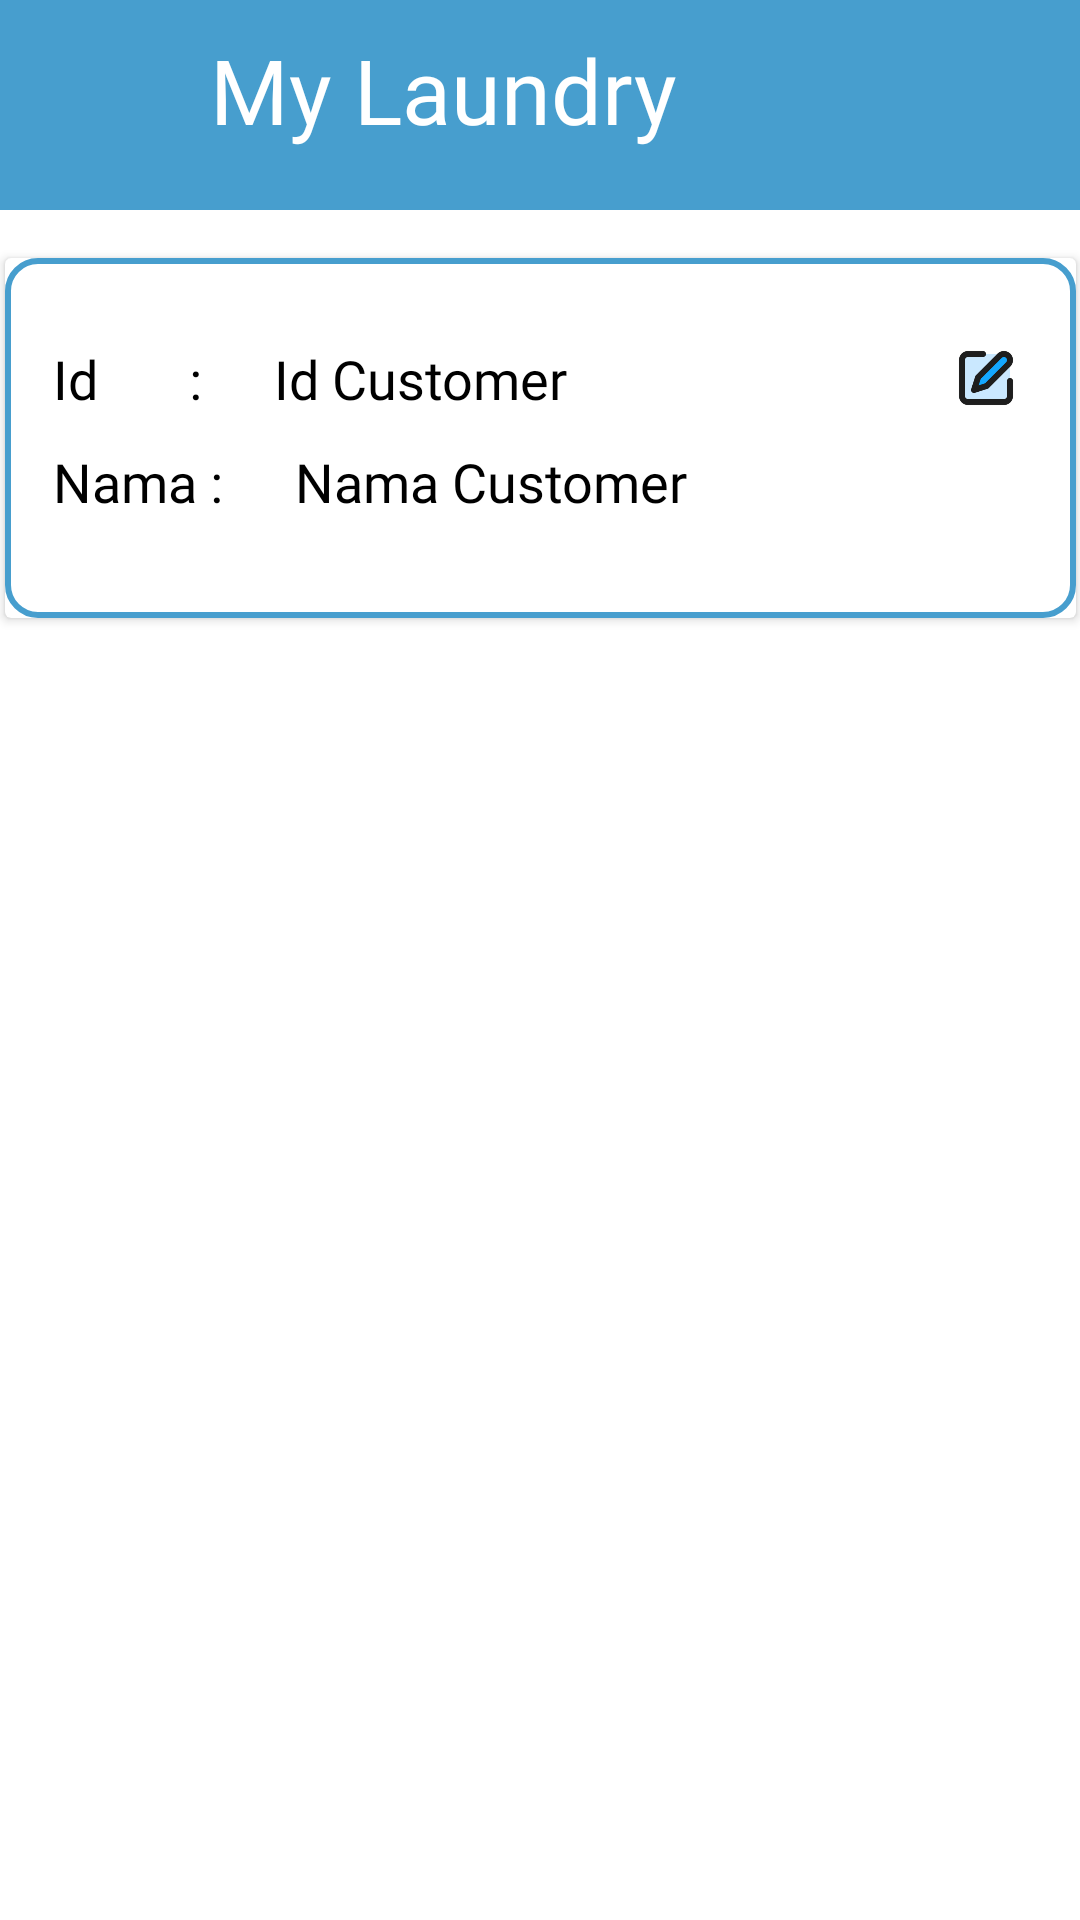

Where icons sit on this 1080 × 1920 app screen, as (x1, y1, x2, y2):
edit free: (959, 351, 1013, 405)
